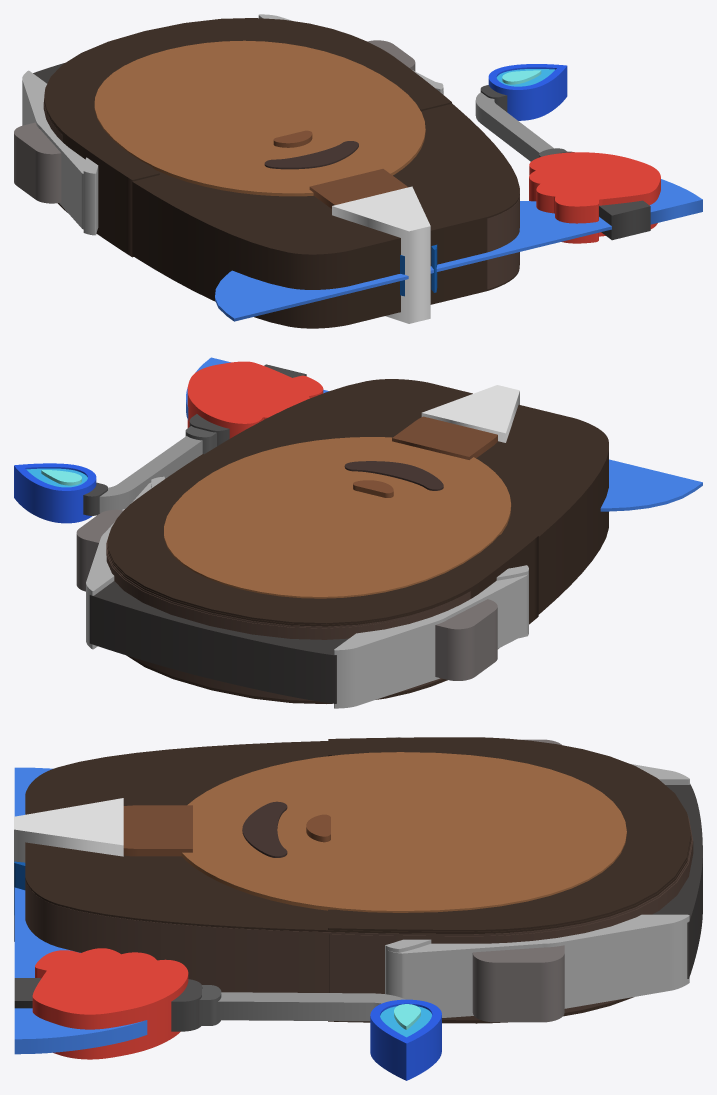
File: emoji_u1f469_1f3fe_200d_1f3ed.glb
3 renders of one model, top to bottom at view 1: azimuth 30°, elevation 25°; view 2: azimuth 150°, elevation 25°; view 3: azimuth 270°, elevation 25°, orthographic. The views are drawn at different scales.
Visible parts, largest first — view 1: emoji_u1f469_1f3fe_200d_1f3ed; view 2: emoji_u1f469_1f3fe_200d_1f3ed; view 3: emoji_u1f469_1f3fe_200d_1f3ed.
Part boxes in pixels (x1=…): emoji_u1f469_1f3fe_200d_1f3ed: x1=14, y1=14, x2=702, y2=328; emoji_u1f469_1f3fe_200d_1f3ed: x1=14, y1=357, x2=702, y2=708; emoji_u1f469_1f3fe_200d_1f3ed: x1=14, y1=737, x2=702, y2=1080.
Size of the model in its own units: 0.0336 by 0.006 by 0.0334.
